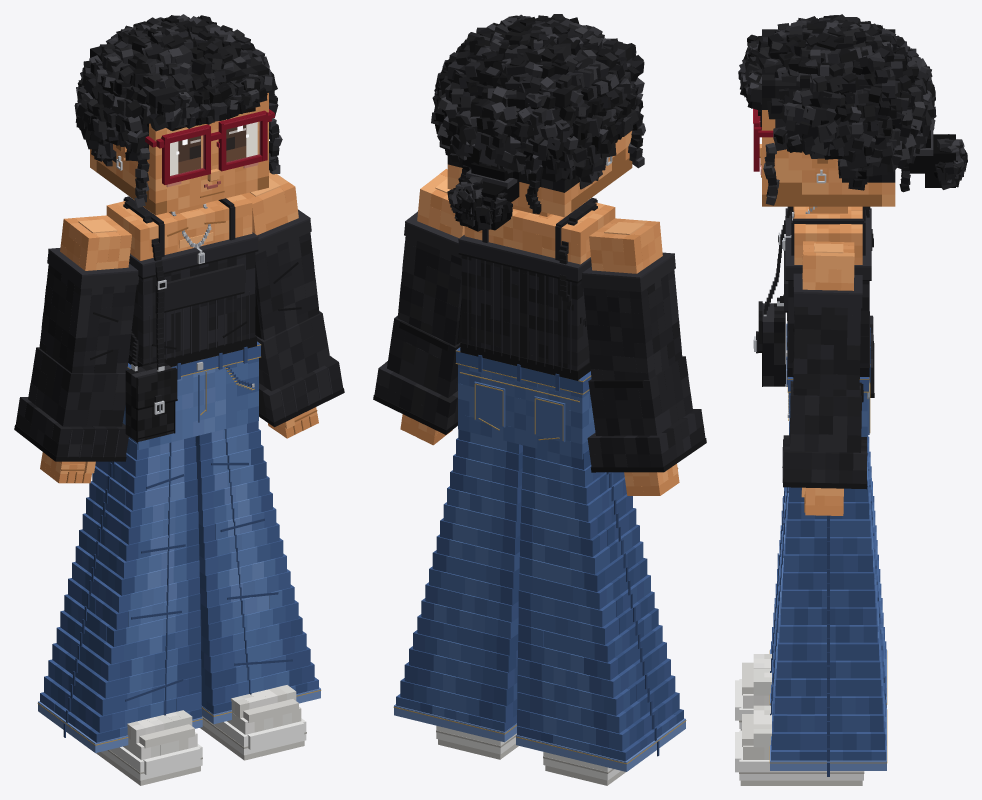
The model's file is genesis-especial.0be7bb15.glb.
The picture shows the model from 3 angles, left to right: view 1: azimuth 30°, elevation 25°; view 2: azimuth 150°, elevation 25°; view 3: azimuth 270°, elevation 25°; orthographic projection. The views are drawn at different scales.
Visible parts, largest first — view 1: body_sweater_3, body_sweater_1, legs_shoes_denim_dark_1, legs_shoes_denim_dark_2, legs_shoes_denim_dark_0, body_sweater_0, legs_shoes_denim_dark_3, legs_shoes_denim_faded_0, body_sweater_2, body_sweater_4, legs_shoes_denim_mid_3, body_skin_3 (+34 smaller); view 2: body_sweater_3, legs_shoes_denim_dark_2, legs_shoes_denim_mid_0, legs_shoes_denim_dark_1, legs_shoes_denim_mid_1, body_sweater_2, legs_shoes_denim_dark_3, legs_shoes_denim_dark_0, legs_shoes_denim_mid_2, legs_shoes_denim_mid_3, body_sweater_4, body_sweater_1 (+21 smaller); view 3: legs_shoes_denim_dark_2, legs_shoes_denim_dark_0, legs_shoes_denim_dark_3, head_hair_0, legs_shoes_denim_dark_1, head_hair_4, head_hair_3, body_sweater_3, head_hair_1, head_hair_2, head_hair_charcoal, body_sweater_0 (+27 smaller).
Part boxes in pixels (x1,y1,x2,y2): body_sweater_3: (17,220,331,456); body_sweater_1: (29,248,328,440); legs_shoes_denim_dark_1: (40,341,306,737); legs_shoes_denim_dark_2: (58,346,307,742); legs_shoes_denim_dark_0: (51,421,314,732); body_sweater_0: (31,196,343,456); legs_shoes_denim_dark_3: (44,439,318,731); legs_shoes_denim_faded_0: (138,369,266,654); body_sweater_2: (24,239,319,456); body_sweater_4: (15,232,341,456); legs_shoes_denim_mid_3: (122,361,289,717); body_skin_3: (40,93,318,483); body_sweater_3: (376,223,696,467); legs_shoes_denim_dark_2: (400,355,683,743); legs_shoes_denim_mid_0: (426,368,594,741); legs_shoes_denim_dark_1: (413,347,676,761); legs_shoes_denim_mid_1: (433,372,596,752); body_sweater_2: (385,247,705,467); legs_shoes_denim_dark_3: (396,465,669,755); legs_shoes_denim_dark_0: (413,438,679,750); legs_shoes_denim_mid_2: (437,364,593,727); legs_shoes_denim_mid_3: (432,367,593,735); body_sweater_4: (374,241,703,466); body_sweater_1: (401,262,690,456); legs_shoes_denim_dark_2: (771,323,886,760); legs_shoes_denim_dark_0: (772,455,886,760); legs_shoes_denim_dark_3: (771,436,886,760); head_hair_0: (749,16,964,187); legs_shoes_denim_dark_1: (773,377,886,749); head_hair_4: (742,15,967,192); head_hair_3: (738,18,962,181); body_sweater_3: (783,267,873,482); head_hair_1: (740,14,966,198); head_hair_2: (743,19,964,185); head_hair_charcoal: (740,15,967,205); body_sweater_0: (783,206,873,483).
Size of the model in its own units: 0.7199 by 1.7 by 0.4994.
